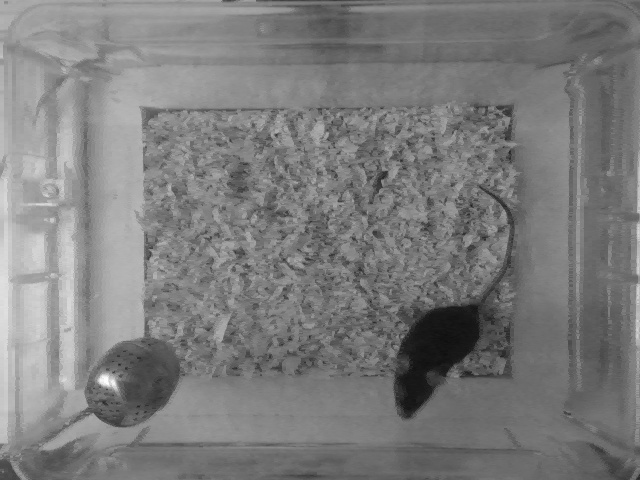mice: (393, 181, 515, 424)
